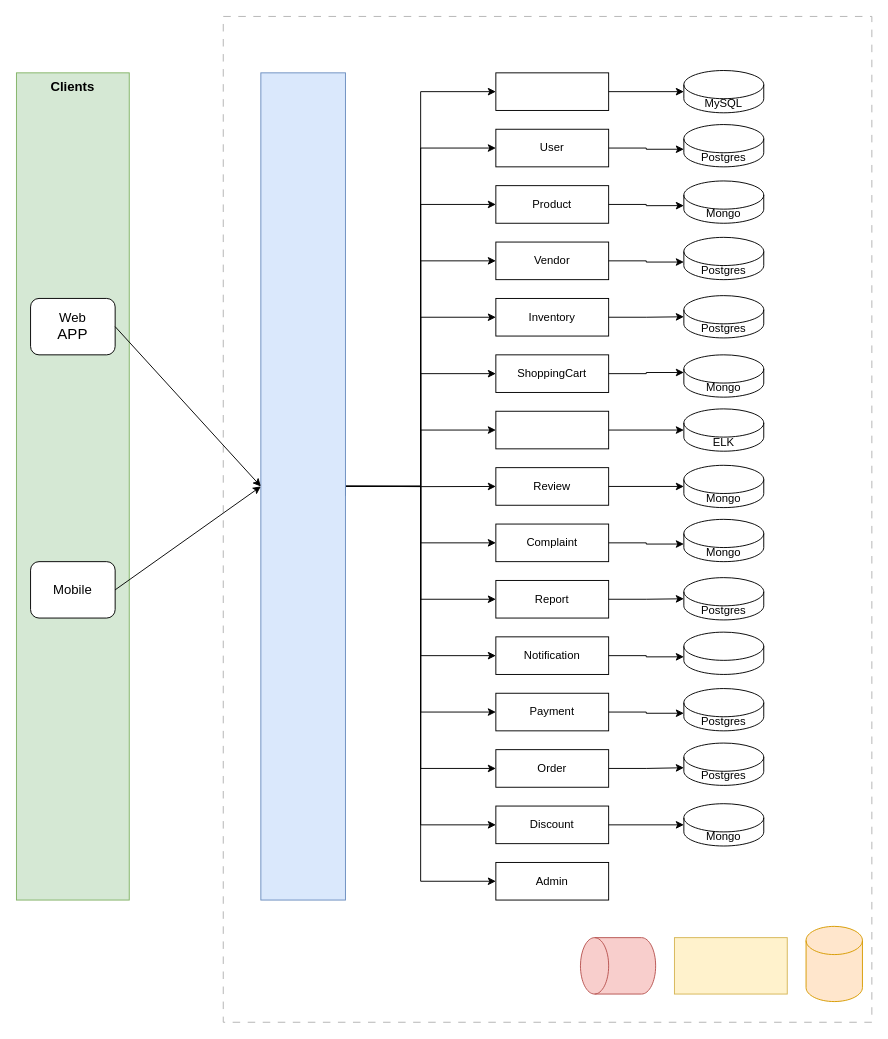
This 888x1039 diagram has some shape labels left out. Here are the shapes that lost their labels. From the top down, the centre of each, then its label:
At [552,91]: "Auth".
At [552,429]: "Search".
At [302,486]: "API Gateway".
At [723,652]: "Reids".
At [618,965]: "Kafka".
At [730,965]: "Grafana (monitoring)".
At [833,963]: "Redis (Cache)".
